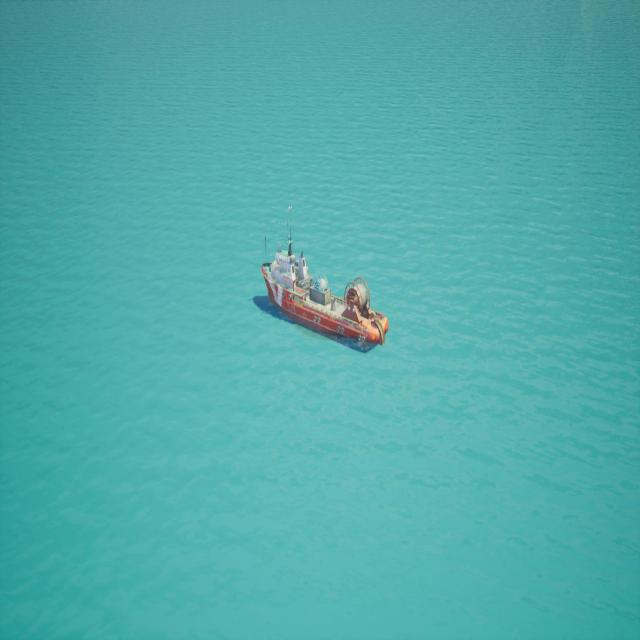tug boat: (256, 196, 431, 375)
